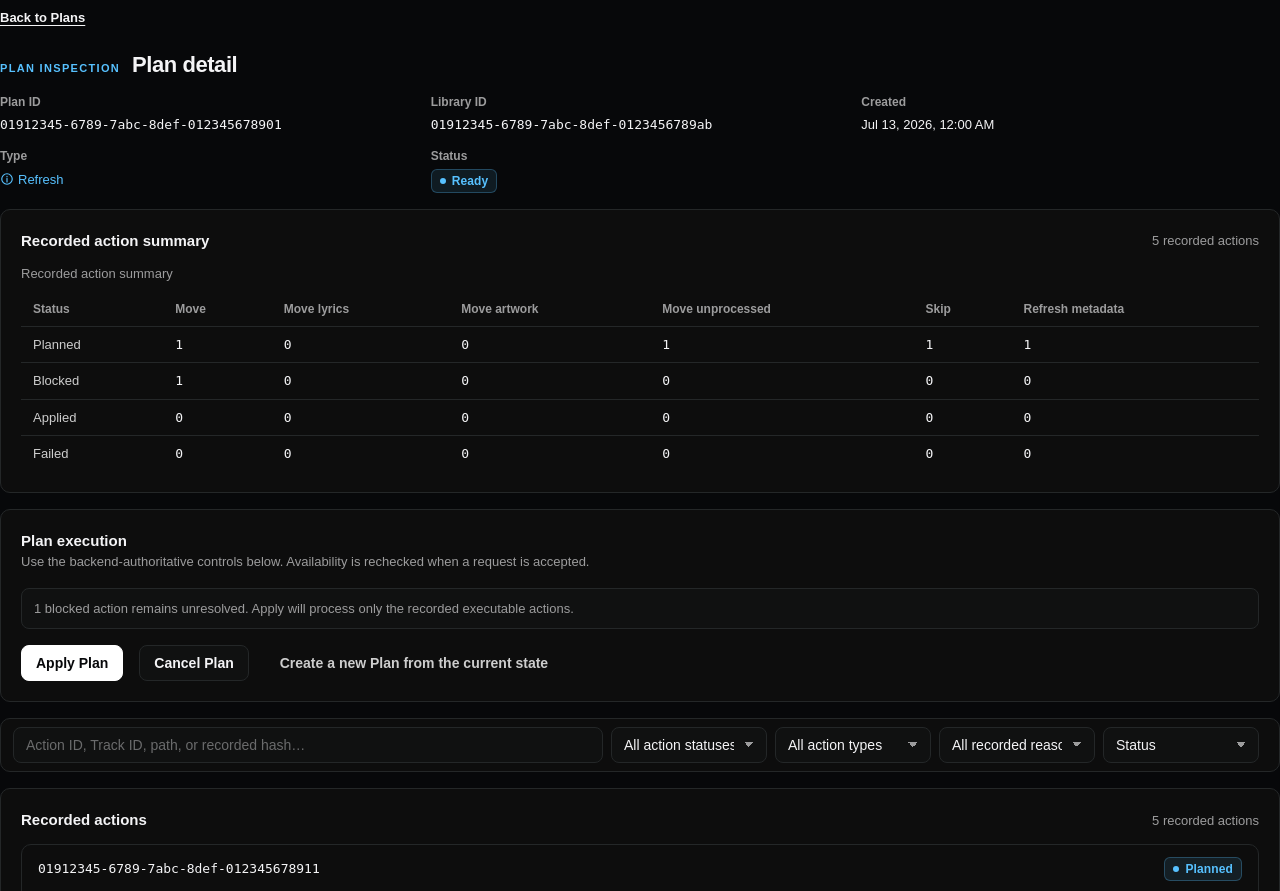
Scenario: PlanDetail › refetches backend capability state after an Apply race without retrying
Click the button "Apply Plan" at (72, 663), box x1=21 y1=645 x2=123 y2=681
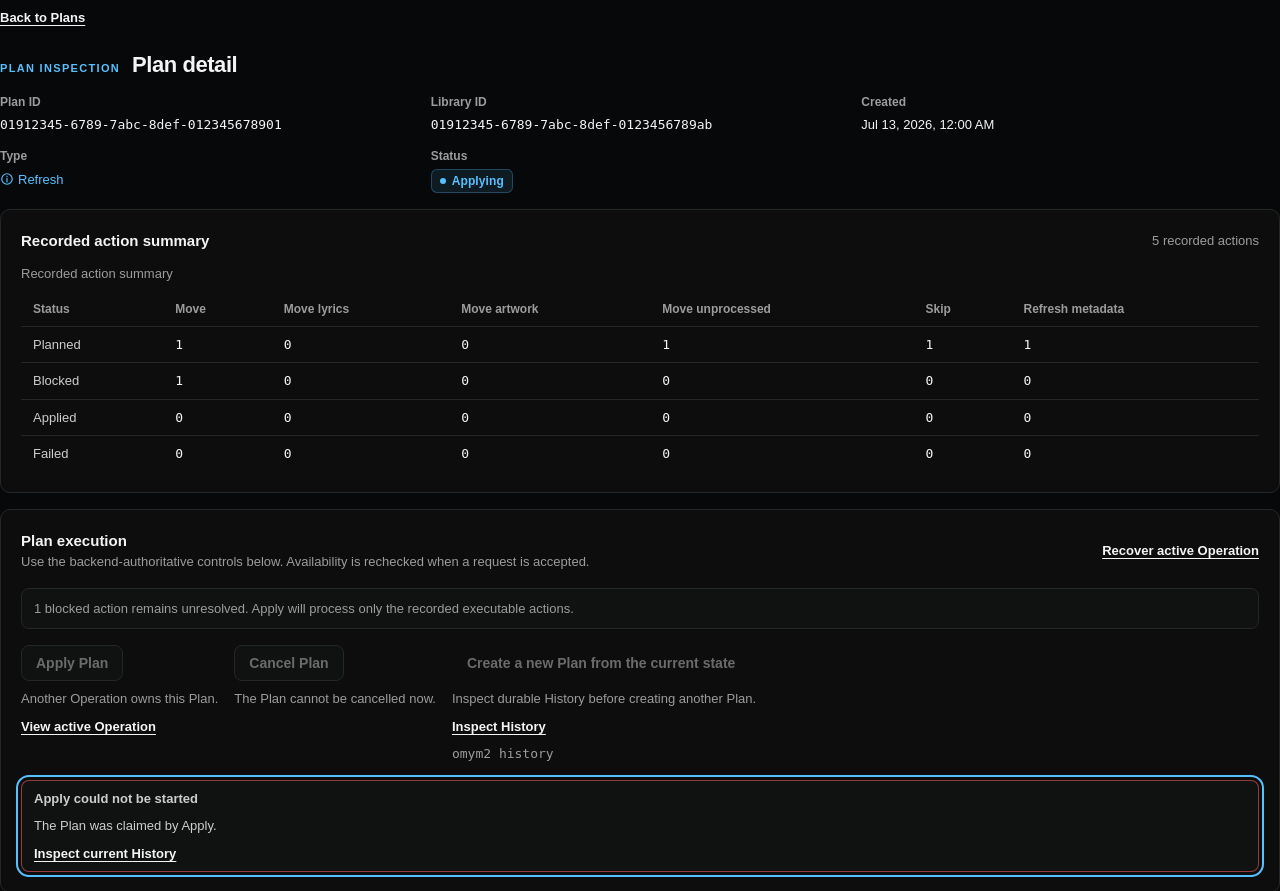
Check: the message shows "The Plan was claimed by Apply.", box x1=34 y1=818 x2=217 y2=833
Check: the text "Applying" is shown, box x1=431 y1=169 x2=513 y2=193
Check: the button "Apply Plan" is disabled, box x1=21 y1=645 x2=123 y2=681
